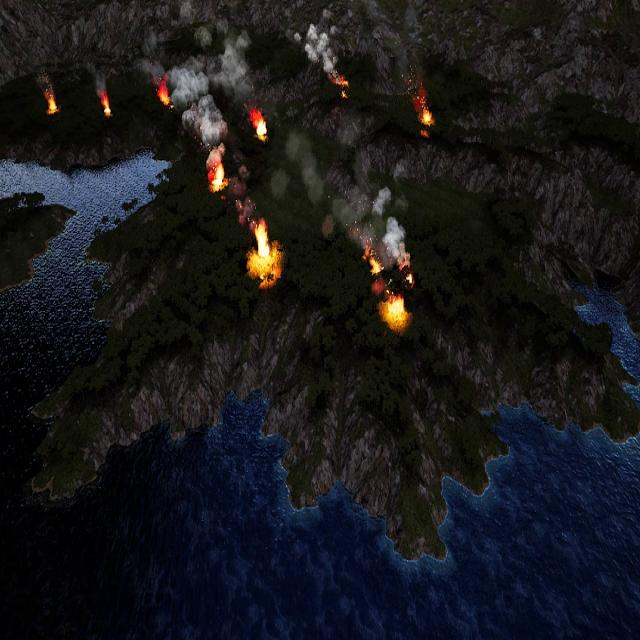fire: (249, 221, 283, 280), (384, 295, 406, 326), (250, 111, 267, 141), (208, 163, 226, 190), (400, 260, 414, 284), (422, 108, 436, 130), (159, 84, 171, 109), (47, 94, 60, 117), (370, 259, 384, 280), (101, 94, 112, 117)
smoke: (279, 113, 412, 259), (134, 14, 251, 151), (302, 19, 336, 82)
